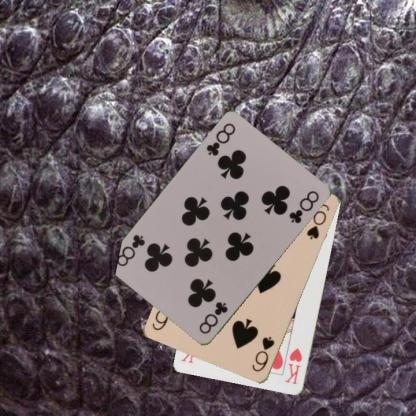6s: (250, 334, 276, 374)
8c: (203, 120, 237, 158), (196, 299, 229, 336)
Kh: (283, 345, 304, 386)
